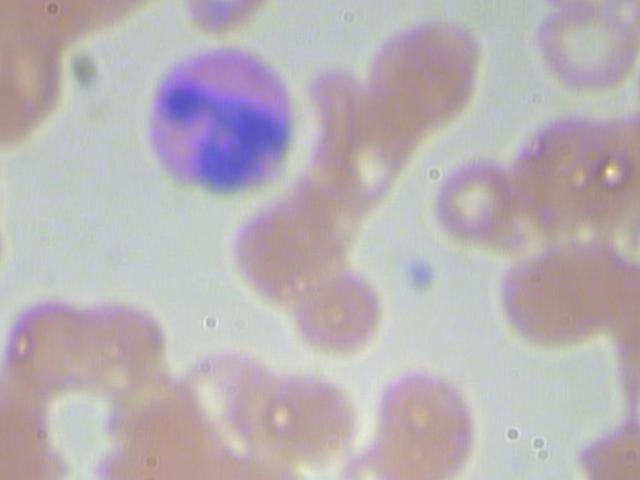Platelets: (399, 252, 439, 298)
WBC: (127, 34, 308, 206)
